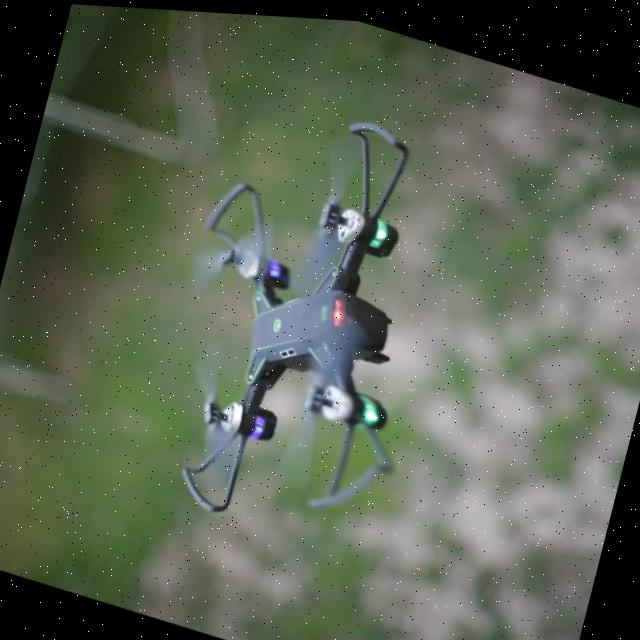drones: (116, 52, 497, 569)
